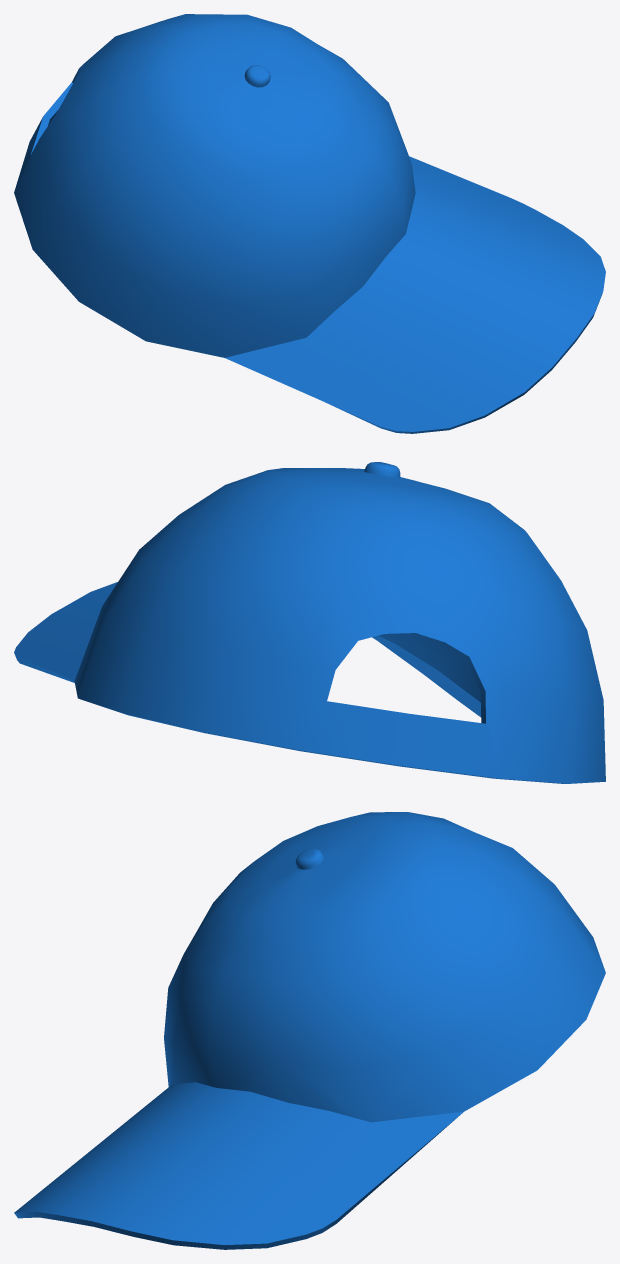
Rendered from billed_cap.glb.
3 views of the same model, one above another, from view 1: azimuth 30°, elevation 25°; view 2: azimuth 150°, elevation 25°; view 3: azimuth 270°, elevation 25° (orthographic). The views are drawn at different scales.
Parts seen in each view (by area): view 1: Circle.1812; view 2: Circle.1812; view 3: Circle.1812.
Boxes of the visible parts, box(x1,y1,x2,y2) form: Circle.1812: box(14, 14, 605, 433); Circle.1812: box(14, 462, 605, 783); Circle.1812: box(14, 812, 605, 1249).
Bounding box in the file's own units: 2.23 × 1.36 × 2.18.
Materials: 1 (1 with a texture image).
